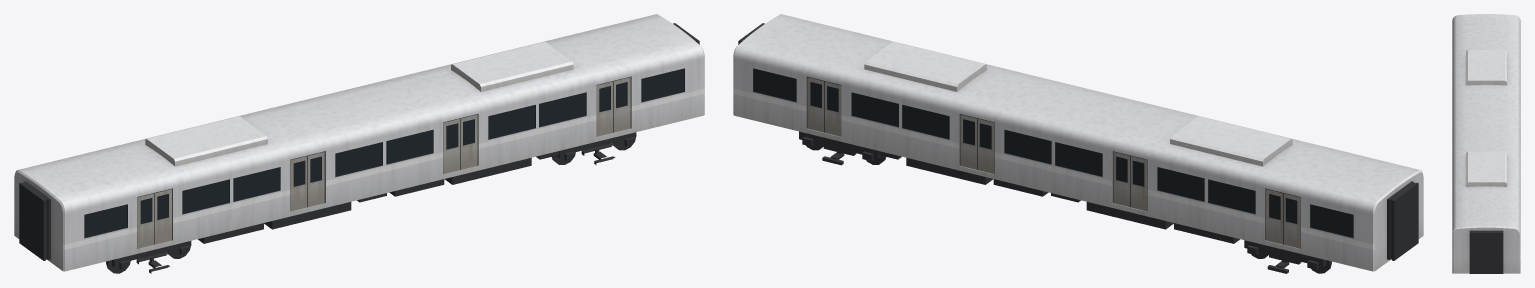
Rendered from hc_mid_near.glb.
3 renders of one model, left to right at view 1: azimuth 30°, elevation 25°; view 2: azimuth 150°, elevation 25°; view 3: azimuth 270°, elevation 25°, orthographic. The views are drawn at different scales.
Visible parts, largest first — view 1: body, glass, dark, band; view 2: body, glass, dark, band; view 3: body, dark.
Boxes of the visible parts, box(x1,y1,x2,y2) form: body: box(14, 14, 704, 271); glass: box(84, 68, 684, 237); dark: box(19, 23, 699, 273); band: box(63, 88, 704, 249); body: box(733, 14, 1423, 271); glass: box(753, 68, 1353, 237); dark: box(738, 23, 1418, 273); band: box(733, 88, 1374, 249); body: box(1452, 14, 1520, 273); dark: box(1469, 230, 1503, 273).
Size of the model in its own units: 24.02 by 3.59 by 3.18.
Materials: 7 (2 with a texture image).
